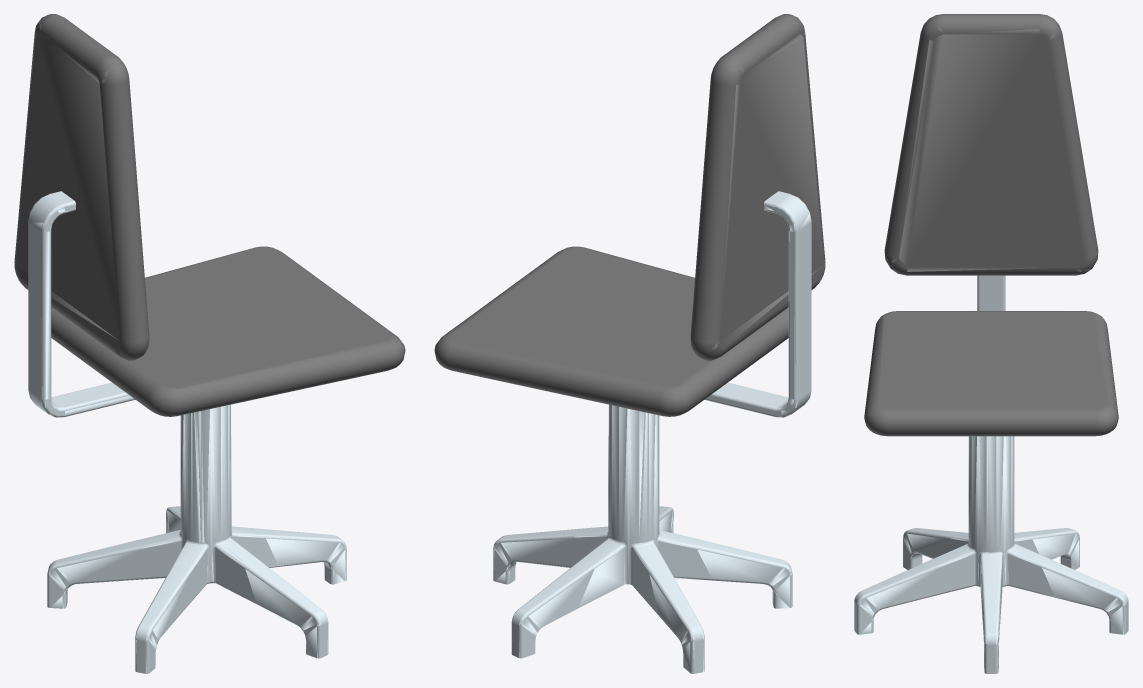
The model's file is Chair.glb.
3 renders of one model, left to right at view 1: azimuth 30°, elevation 25°; view 2: azimuth 150°, elevation 25°; view 3: azimuth 270°, elevation 25°, orthographic. The views are drawn at different scales.
Visible parts, largest first — view 1: polySurface2, polySurface1, polySurface3; view 2: polySurface2, polySurface1, polySurface3; view 3: polySurface3, polySurface2, polySurface1.
Part boxes in pixels (x1,y1,x2,y2): polySurface2: [51, 246, 405, 416]; polySurface1: [28, 191, 346, 673]; polySurface3: [14, 14, 149, 360]; polySurface2: [434, 246, 788, 416]; polySurface1: [493, 191, 811, 673]; polySurface3: [690, 14, 825, 360]; polySurface3: [884, 14, 1098, 275]; polySurface2: [864, 311, 1118, 436]; polySurface1: [854, 275, 1128, 673].
Bounding box in the file's own units: 0.56 × 1.05 × 0.4802.
